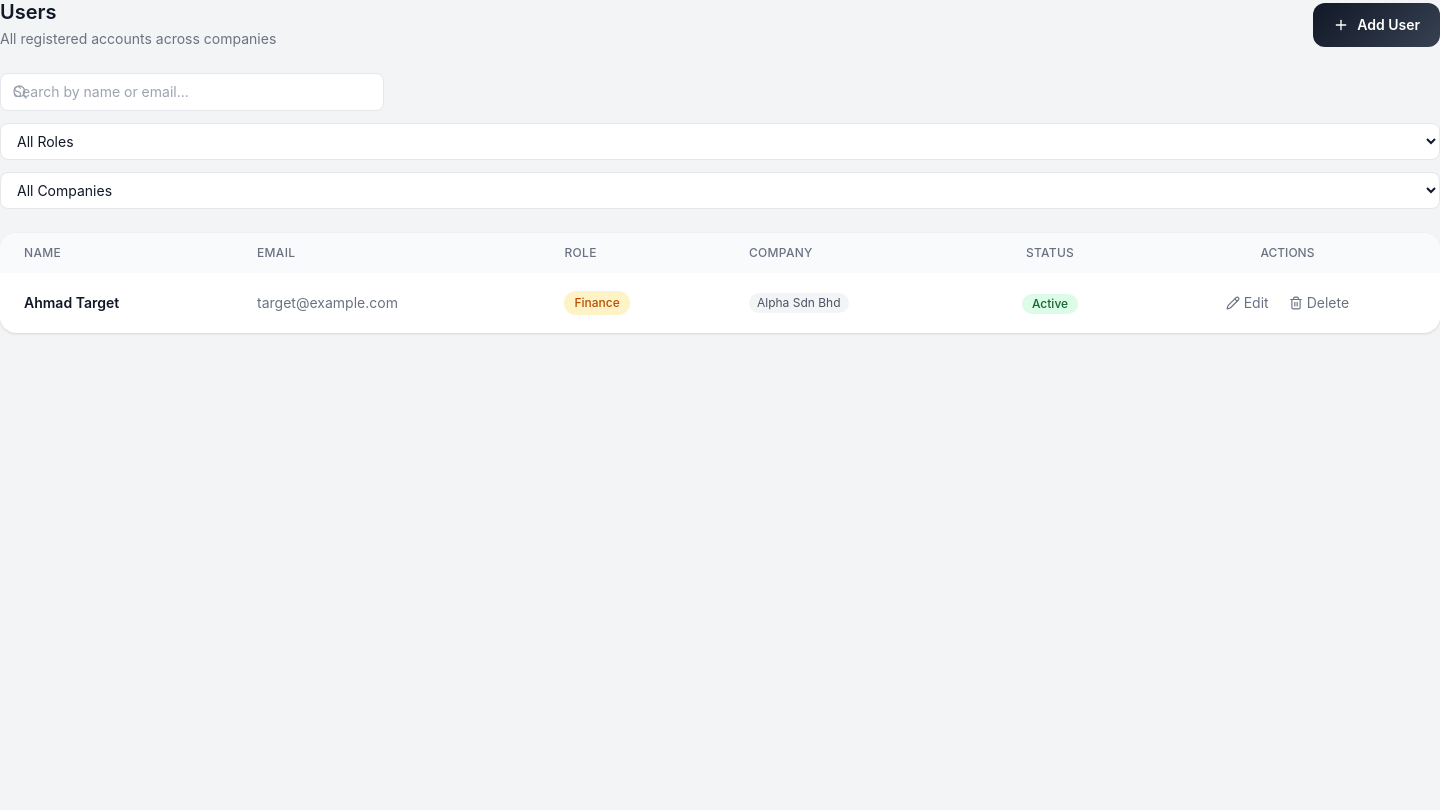
Test: UserManagement — edit form › offers the employee role when editing an existing account
The width and height of the screenshot is (1440, 810).
Click the button with aria-label "Edit Ahmad Target": (1247, 303) [1218,289,1277,317]
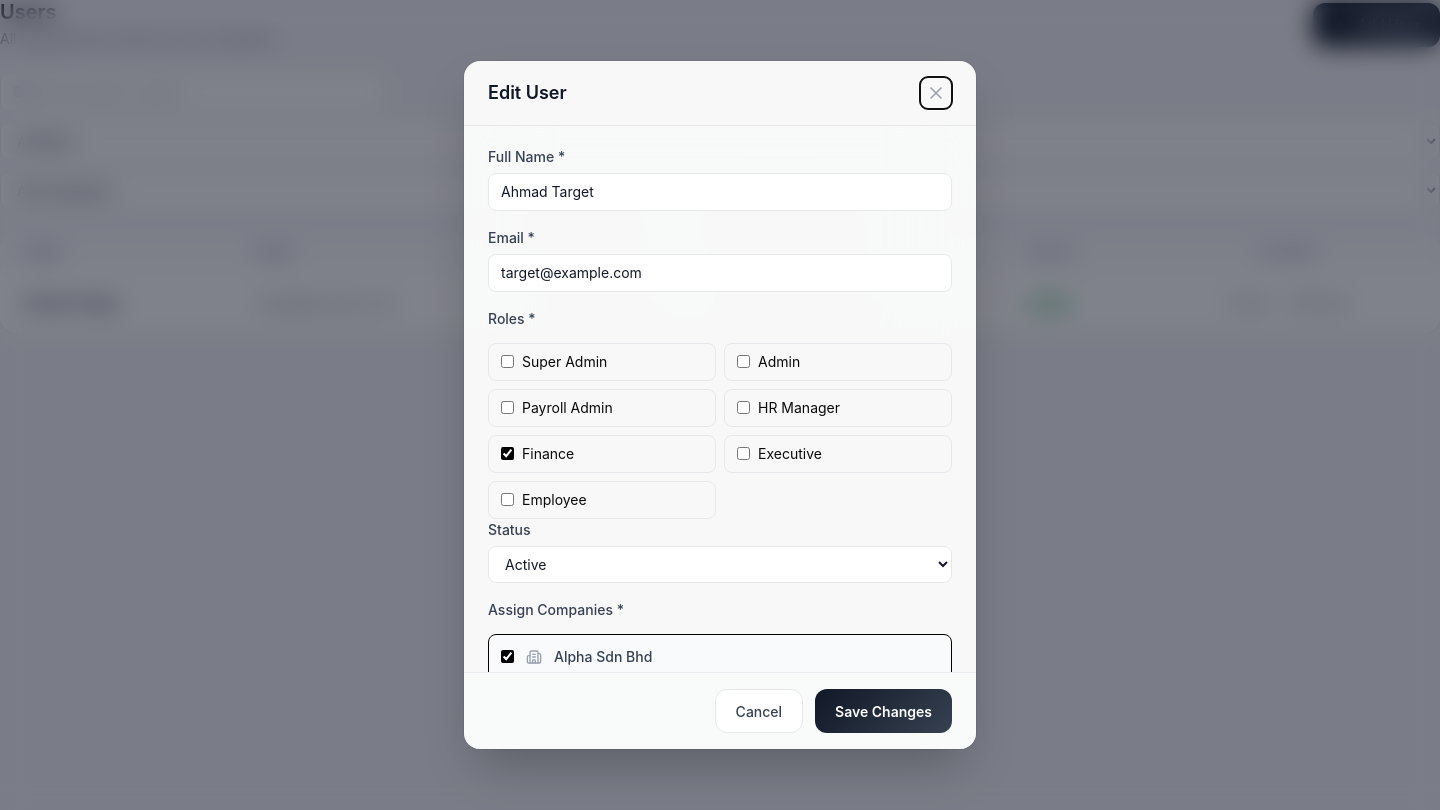
Check: the checkbox labelled "Employee" is shown, box [501,493,514,506]
